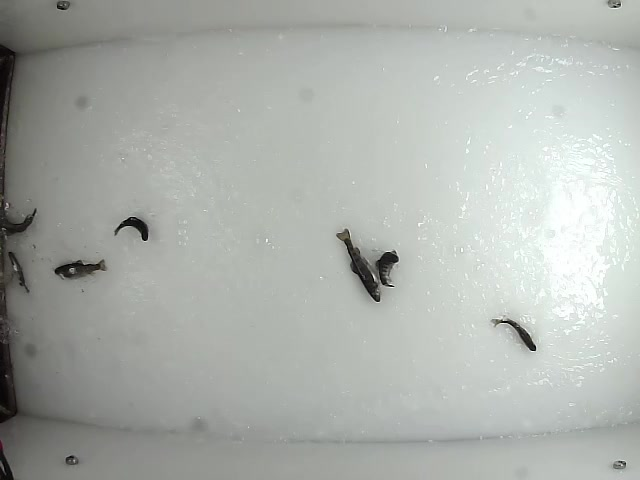fish: (334, 228, 382, 304), (489, 316, 538, 354), (52, 258, 109, 282), (7, 249, 33, 294), (373, 248, 400, 290), (110, 216, 150, 243)
